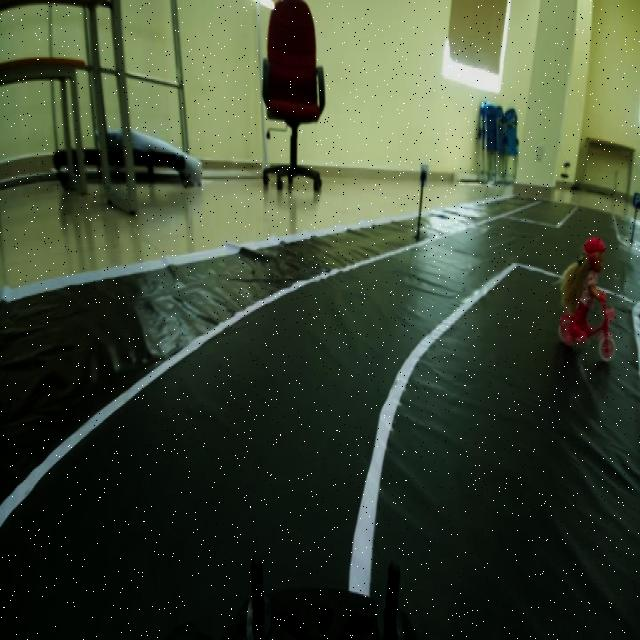pedestrian: (563, 232, 613, 356)
